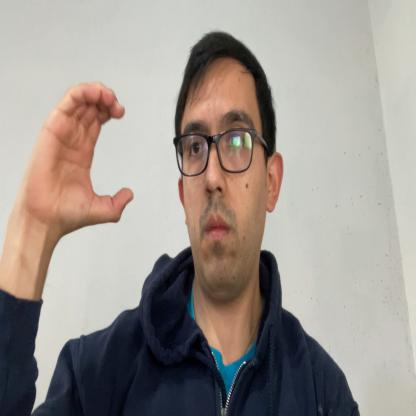C: (38, 82, 134, 232)
